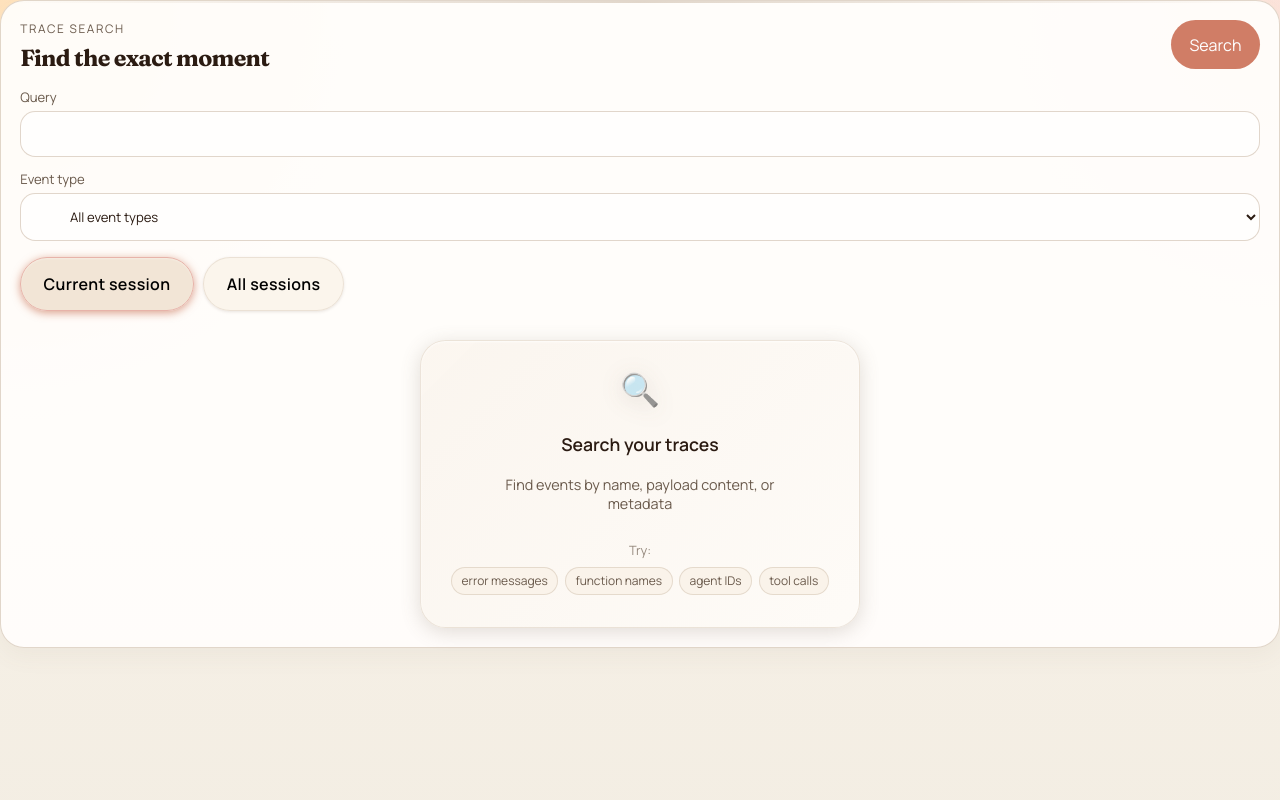
Test: SearchPanel › displays event type chips
Step 1. Type "test" into the field with placeholder "Belgrade, missing token, critic turn..." → x=640, y=134, box [20,111,1260,157]
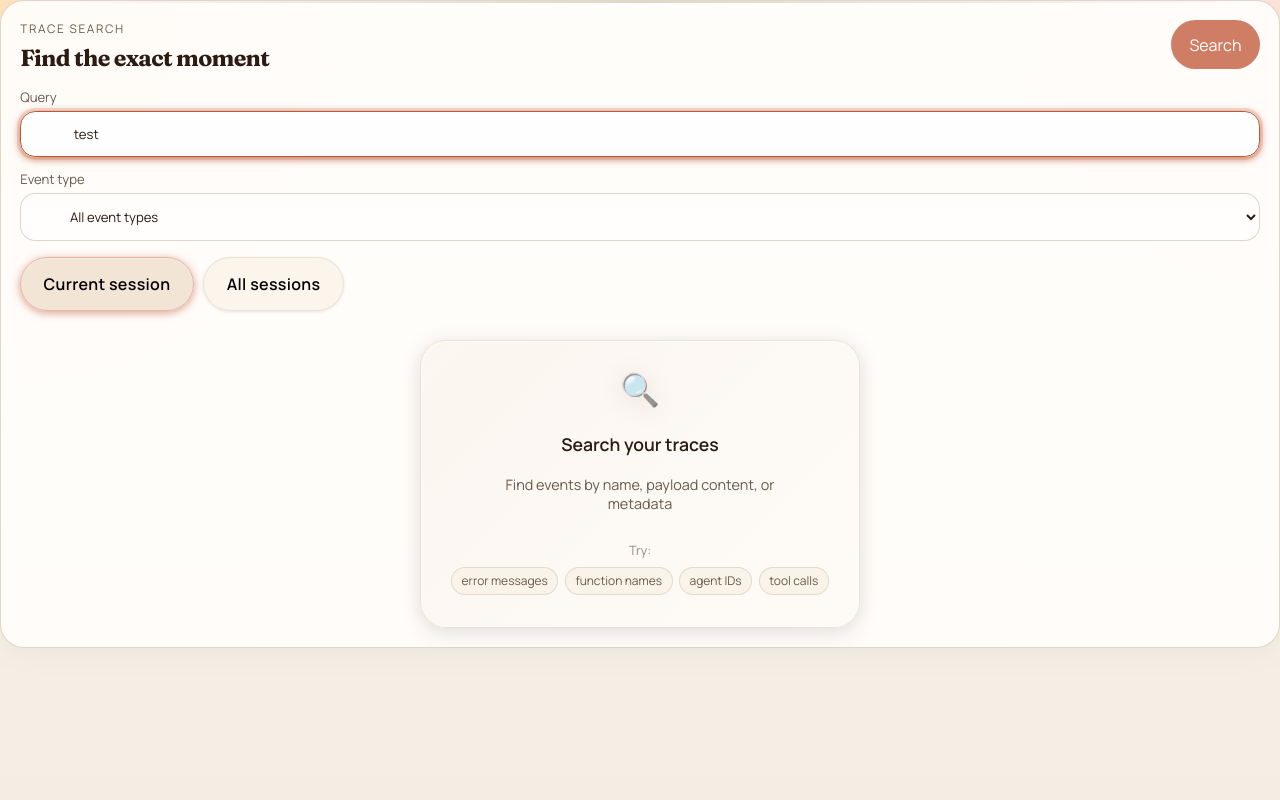
Step 2. Click the button "Search" → x=1215, y=45, box [1171,20,1260,69]
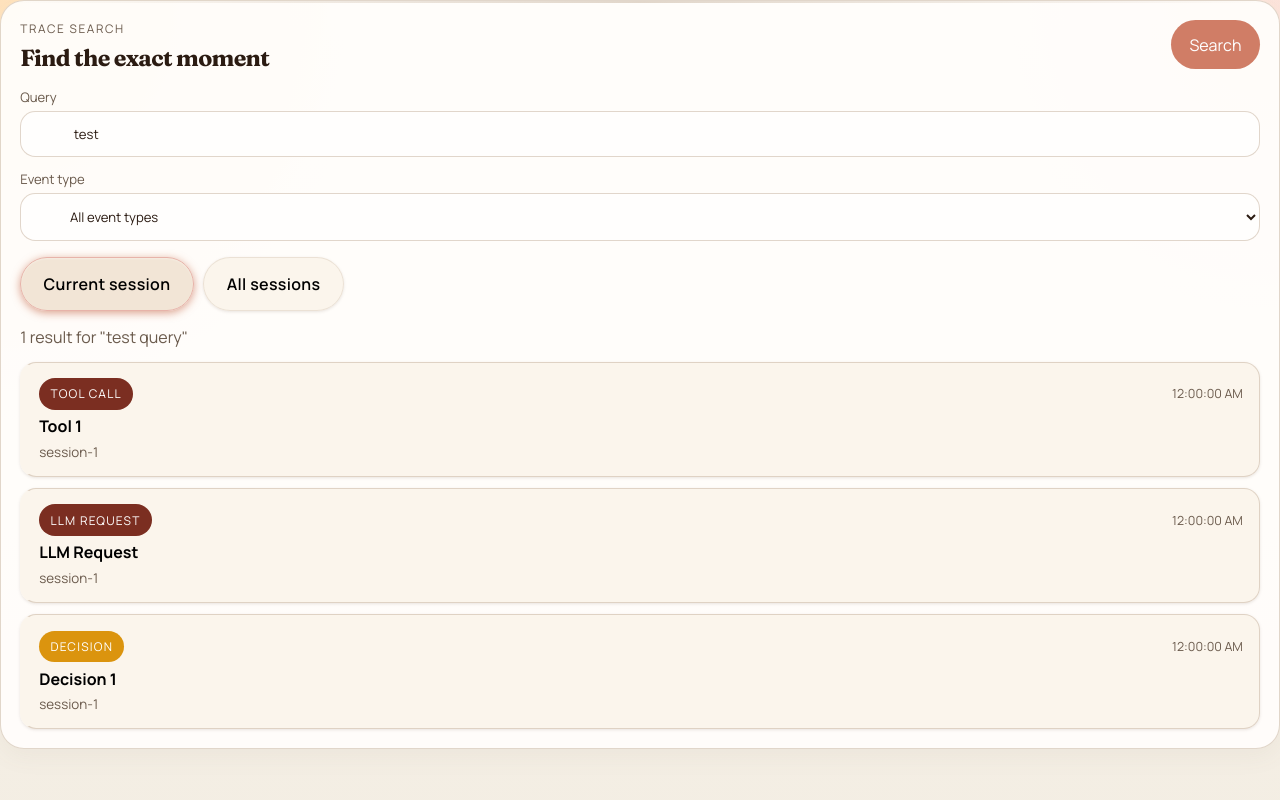
expect the text "tool call" is shown: met, box [39,378,133,410]
expect the text "llm request" is shown: met, box [39,504,152,536]
expect the text "decision" is shown: met, box [39,630,124,662]
